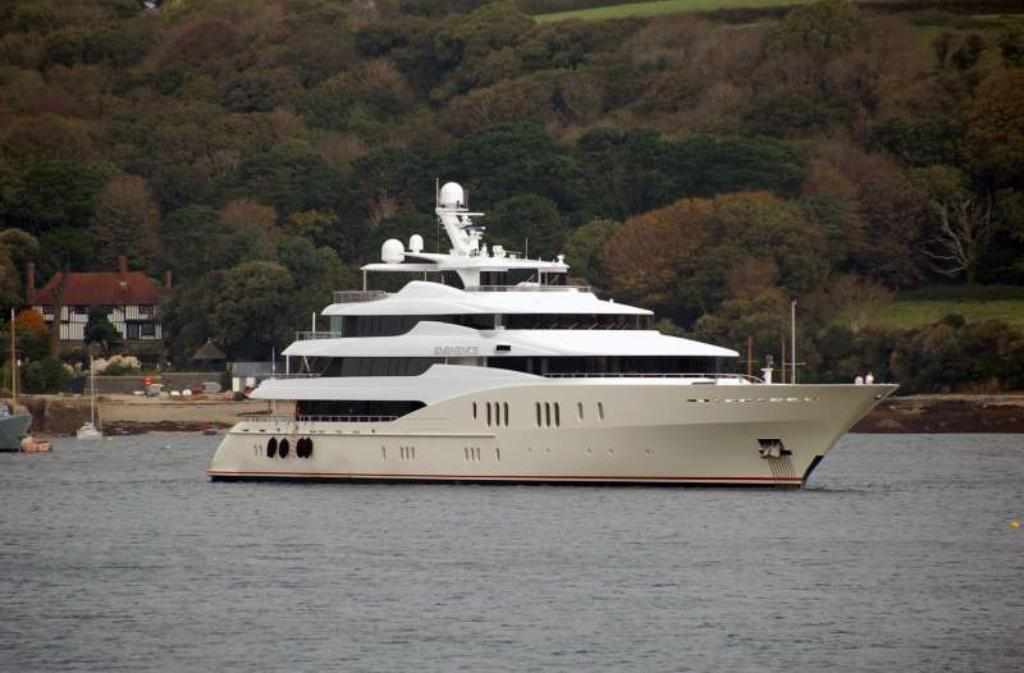PassengerShip: (200, 175, 906, 500)
